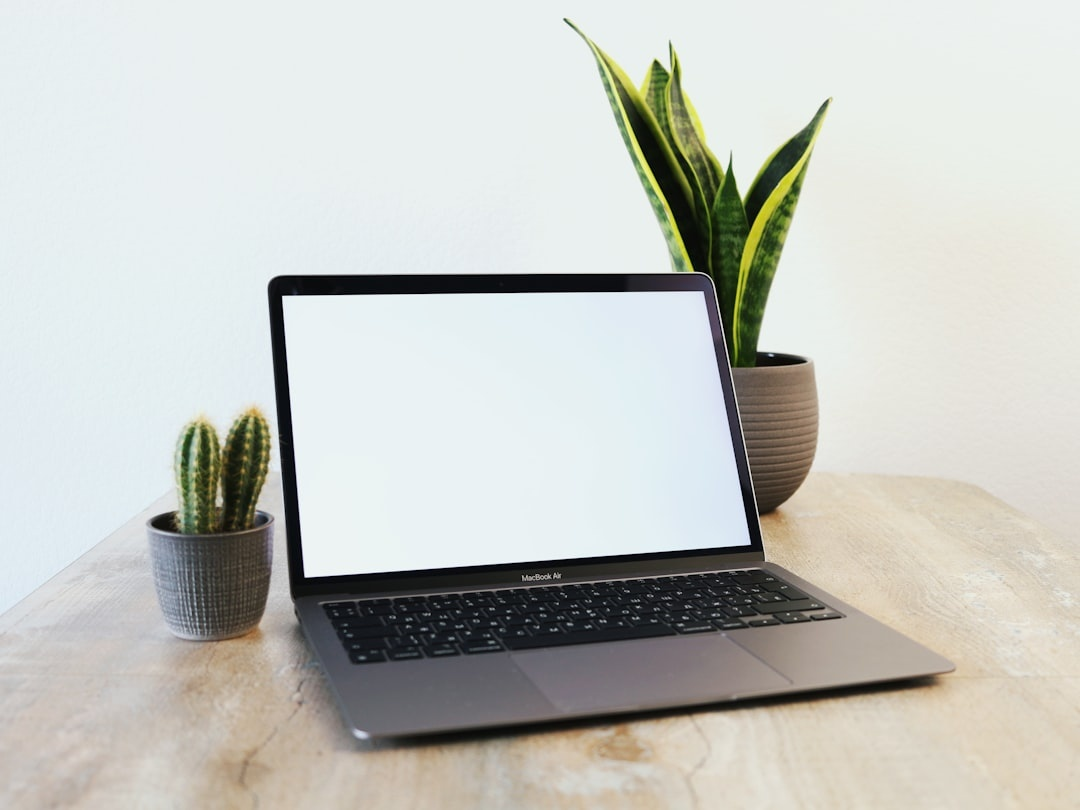laptop: (260, 255, 970, 768)
